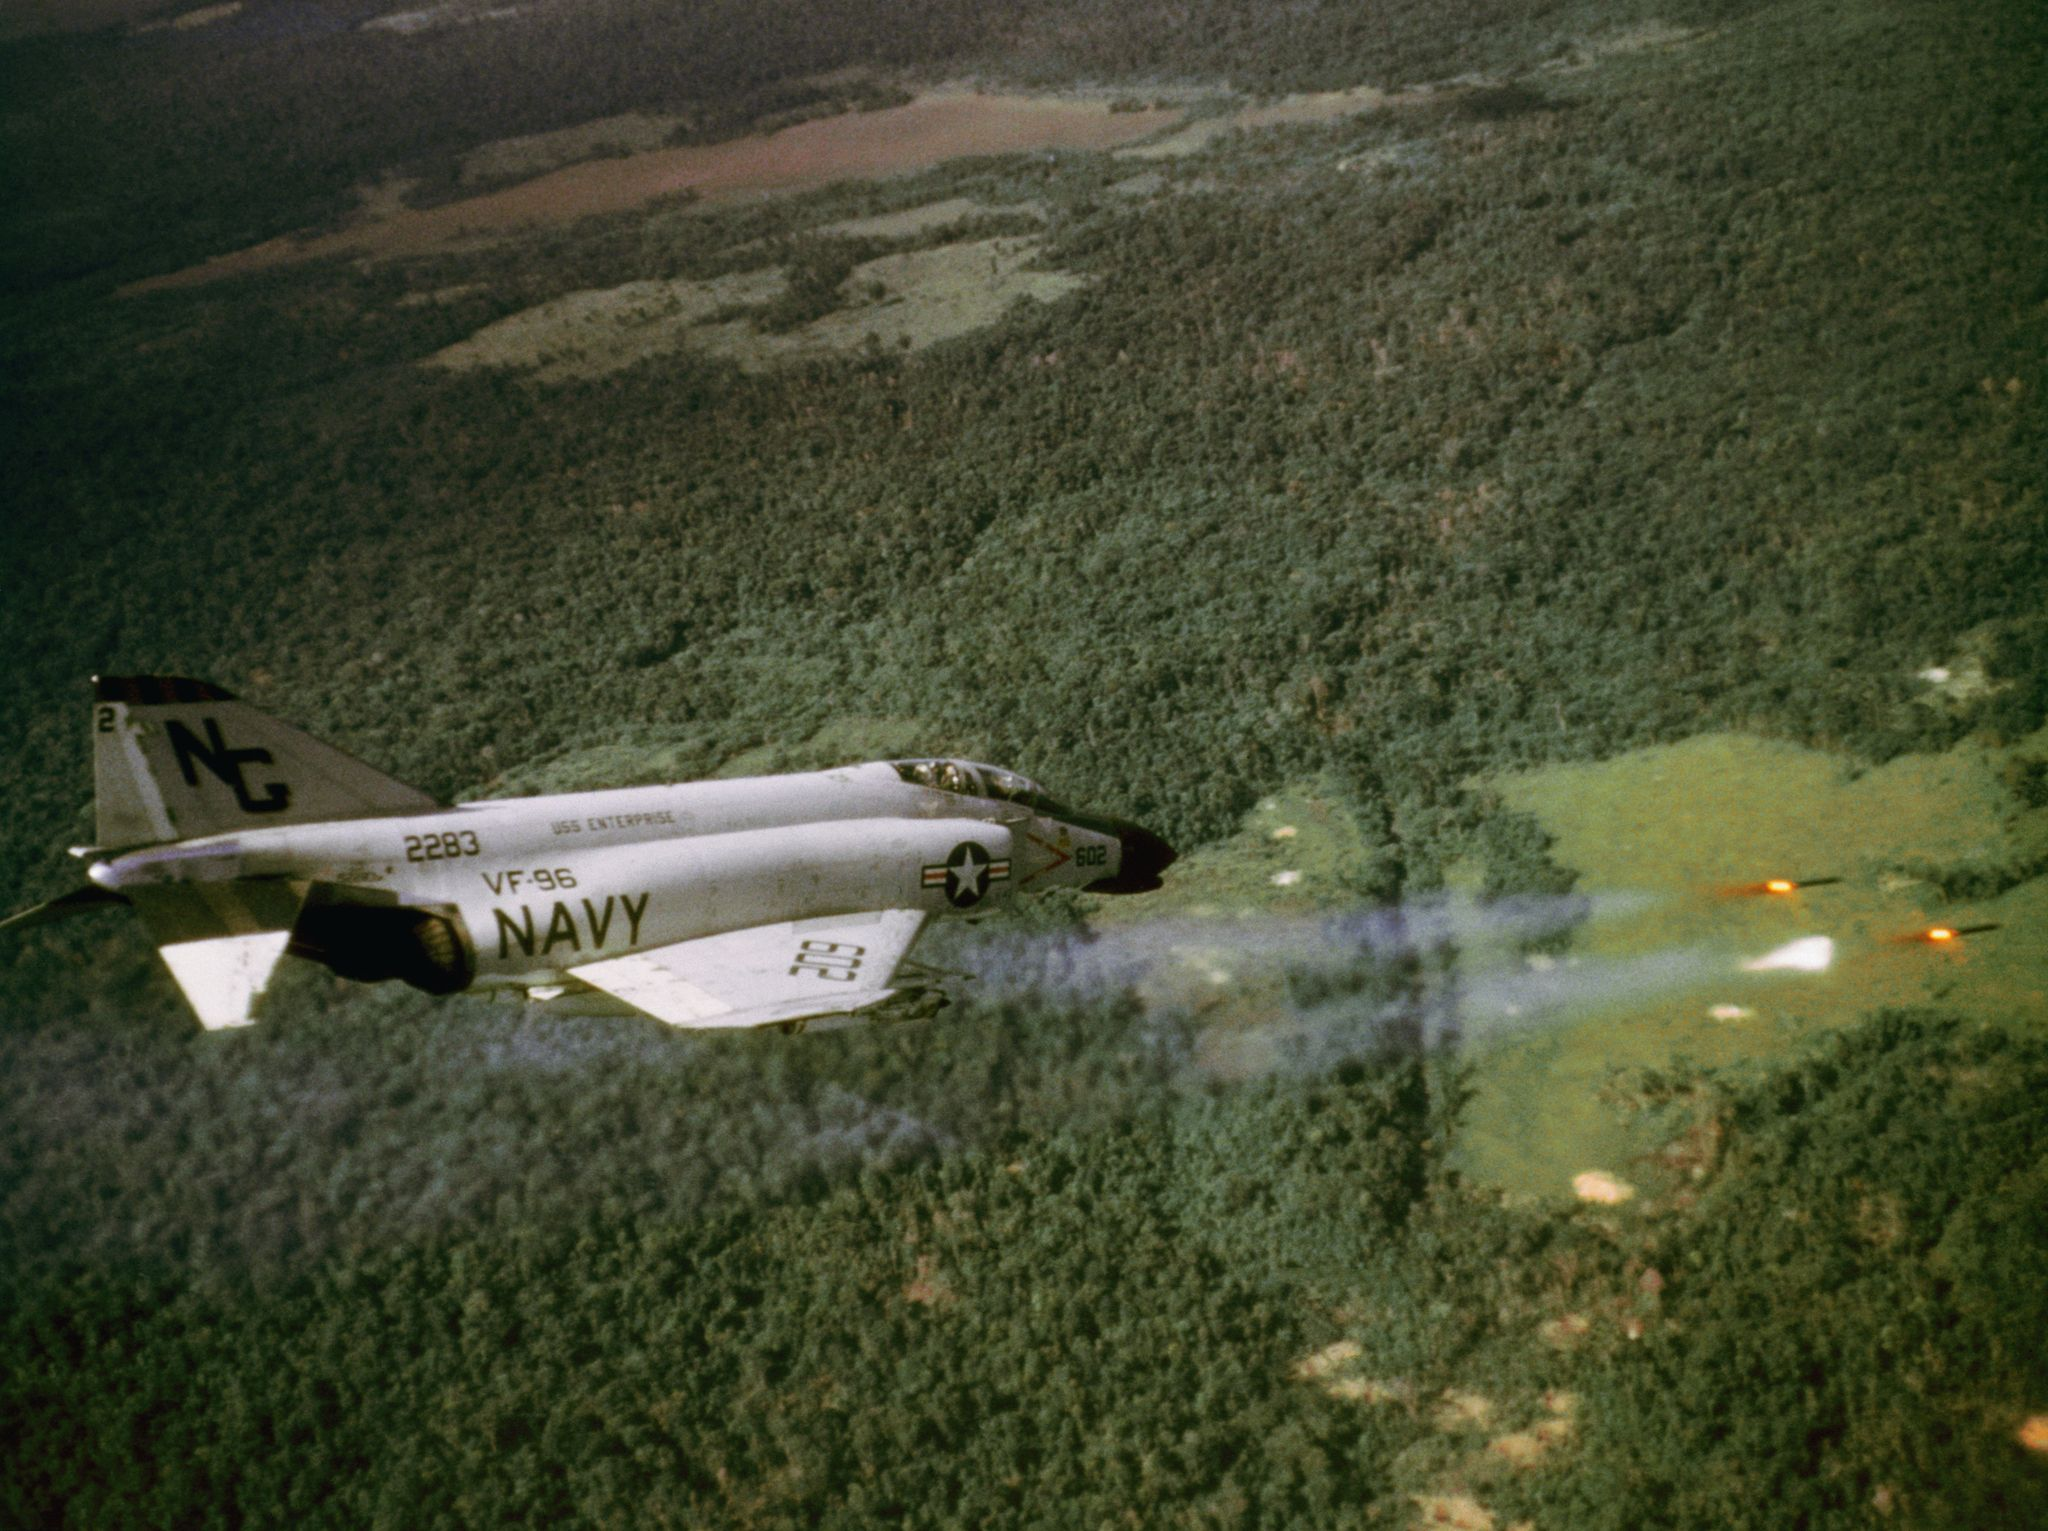F4: (2, 674, 1180, 1037)
